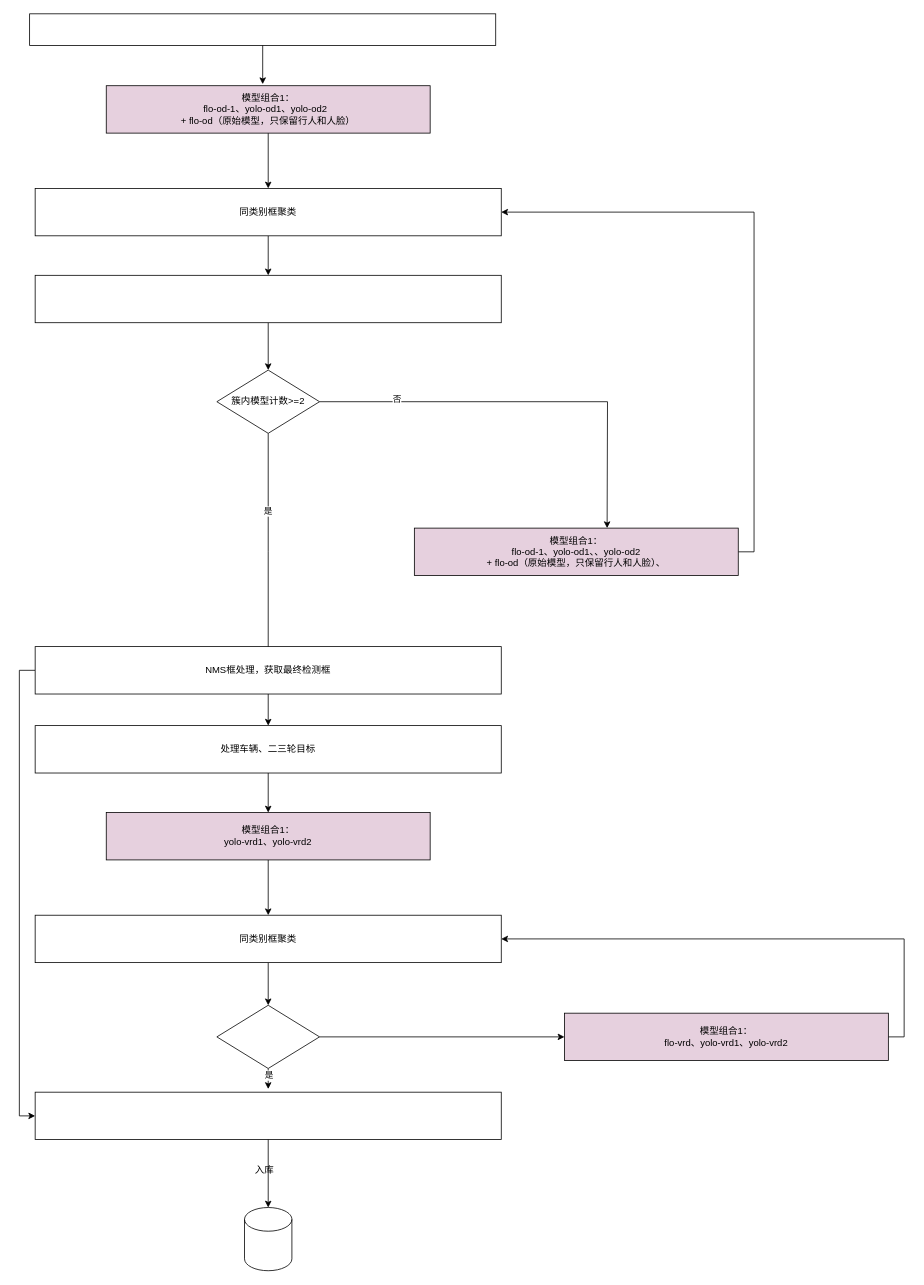
This 924x1285 diagram has some shape labels left out. Here are the shapes that lost their labels. From the top down, the centre of each, then its label:
the point at 262,29: 复杂室外视频点位
the point at 267,299: 簇内模型计数
the point at 268,1036: 簇内模型计数=2
the point at 267,1115: 剔除异常框
